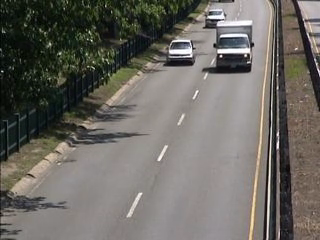car: (165, 38, 199, 69), (204, 9, 228, 32)
truck: (214, 19, 255, 73)
